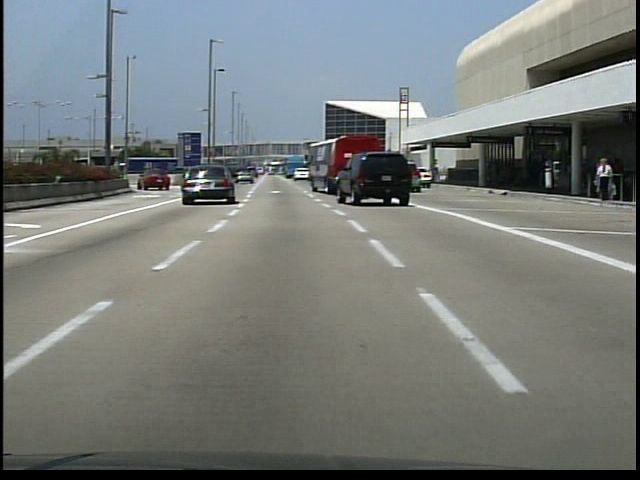person: (588, 154, 615, 205)
